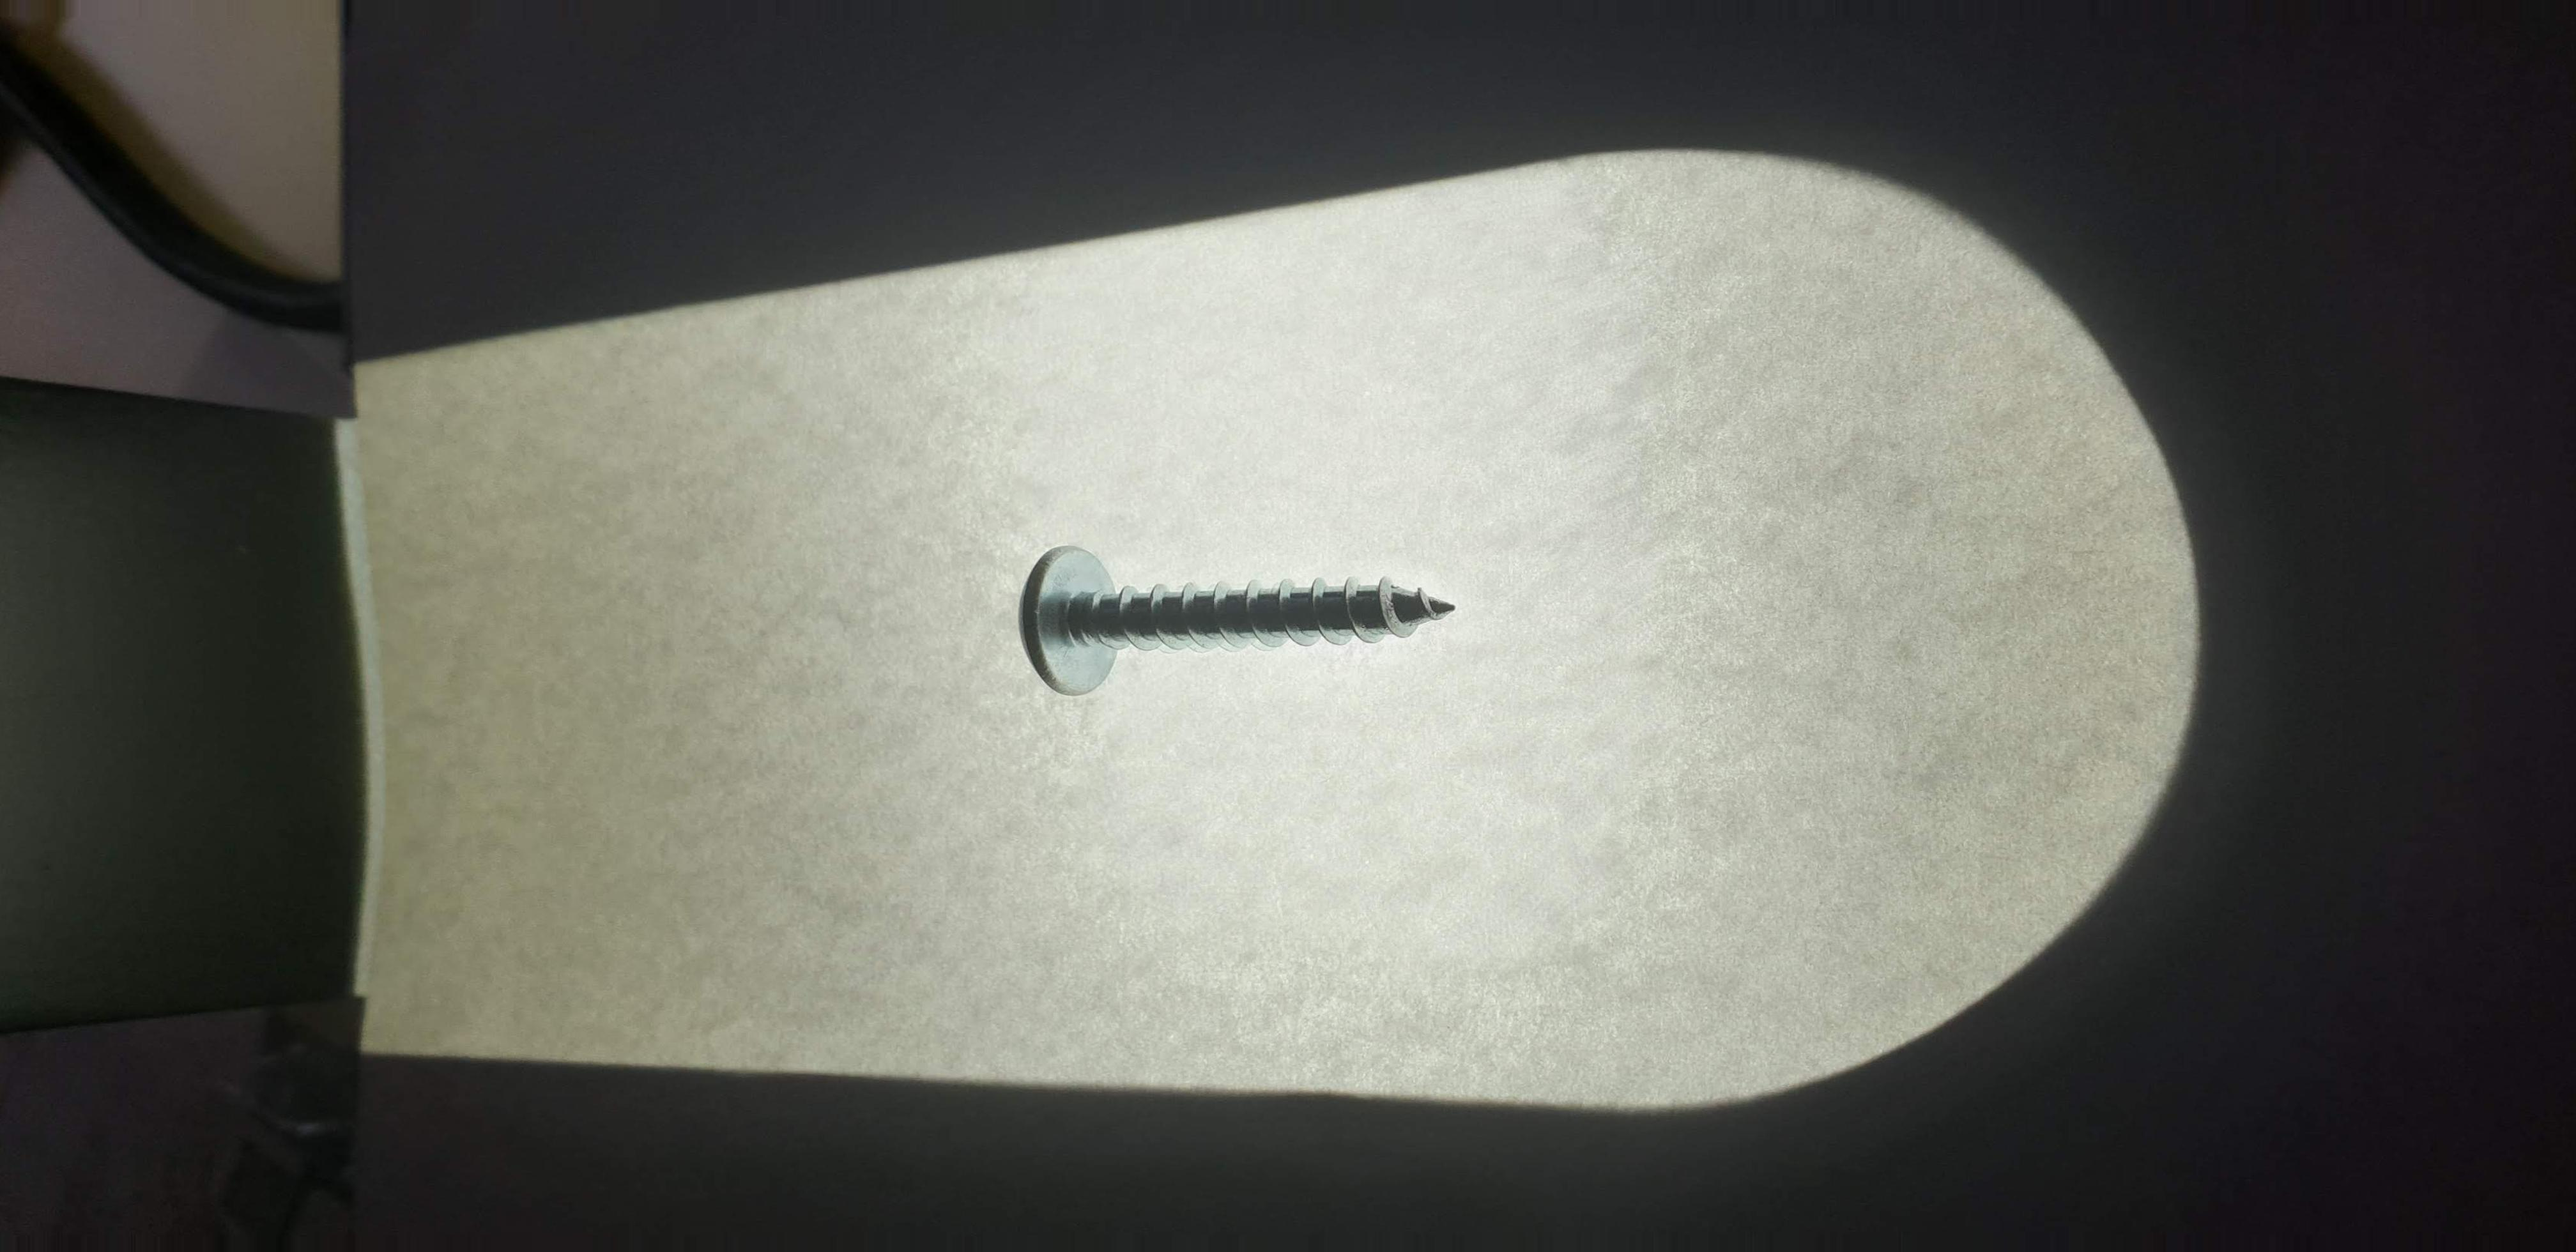S002: (961, 516, 1492, 713)
